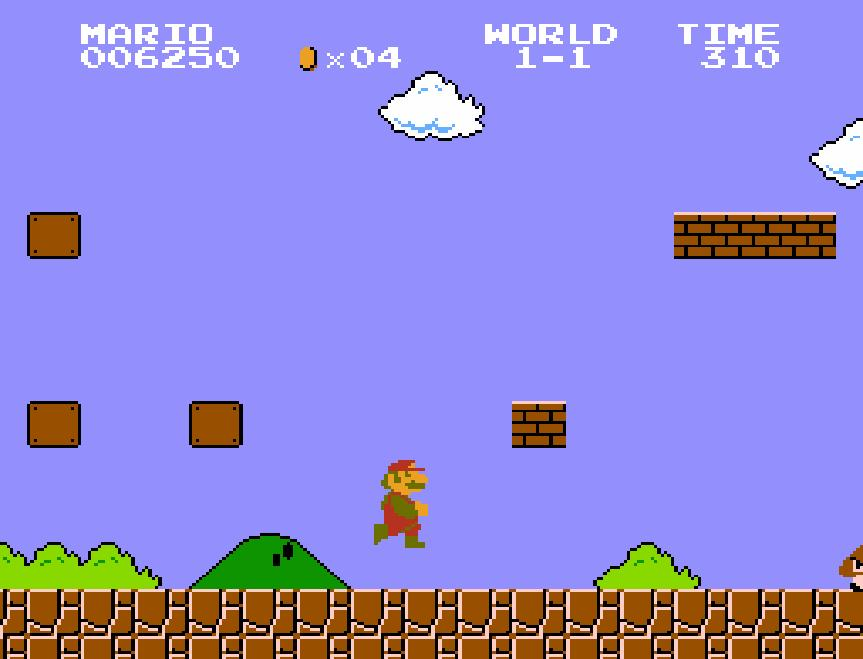big_mario: (372, 452, 430, 550)
